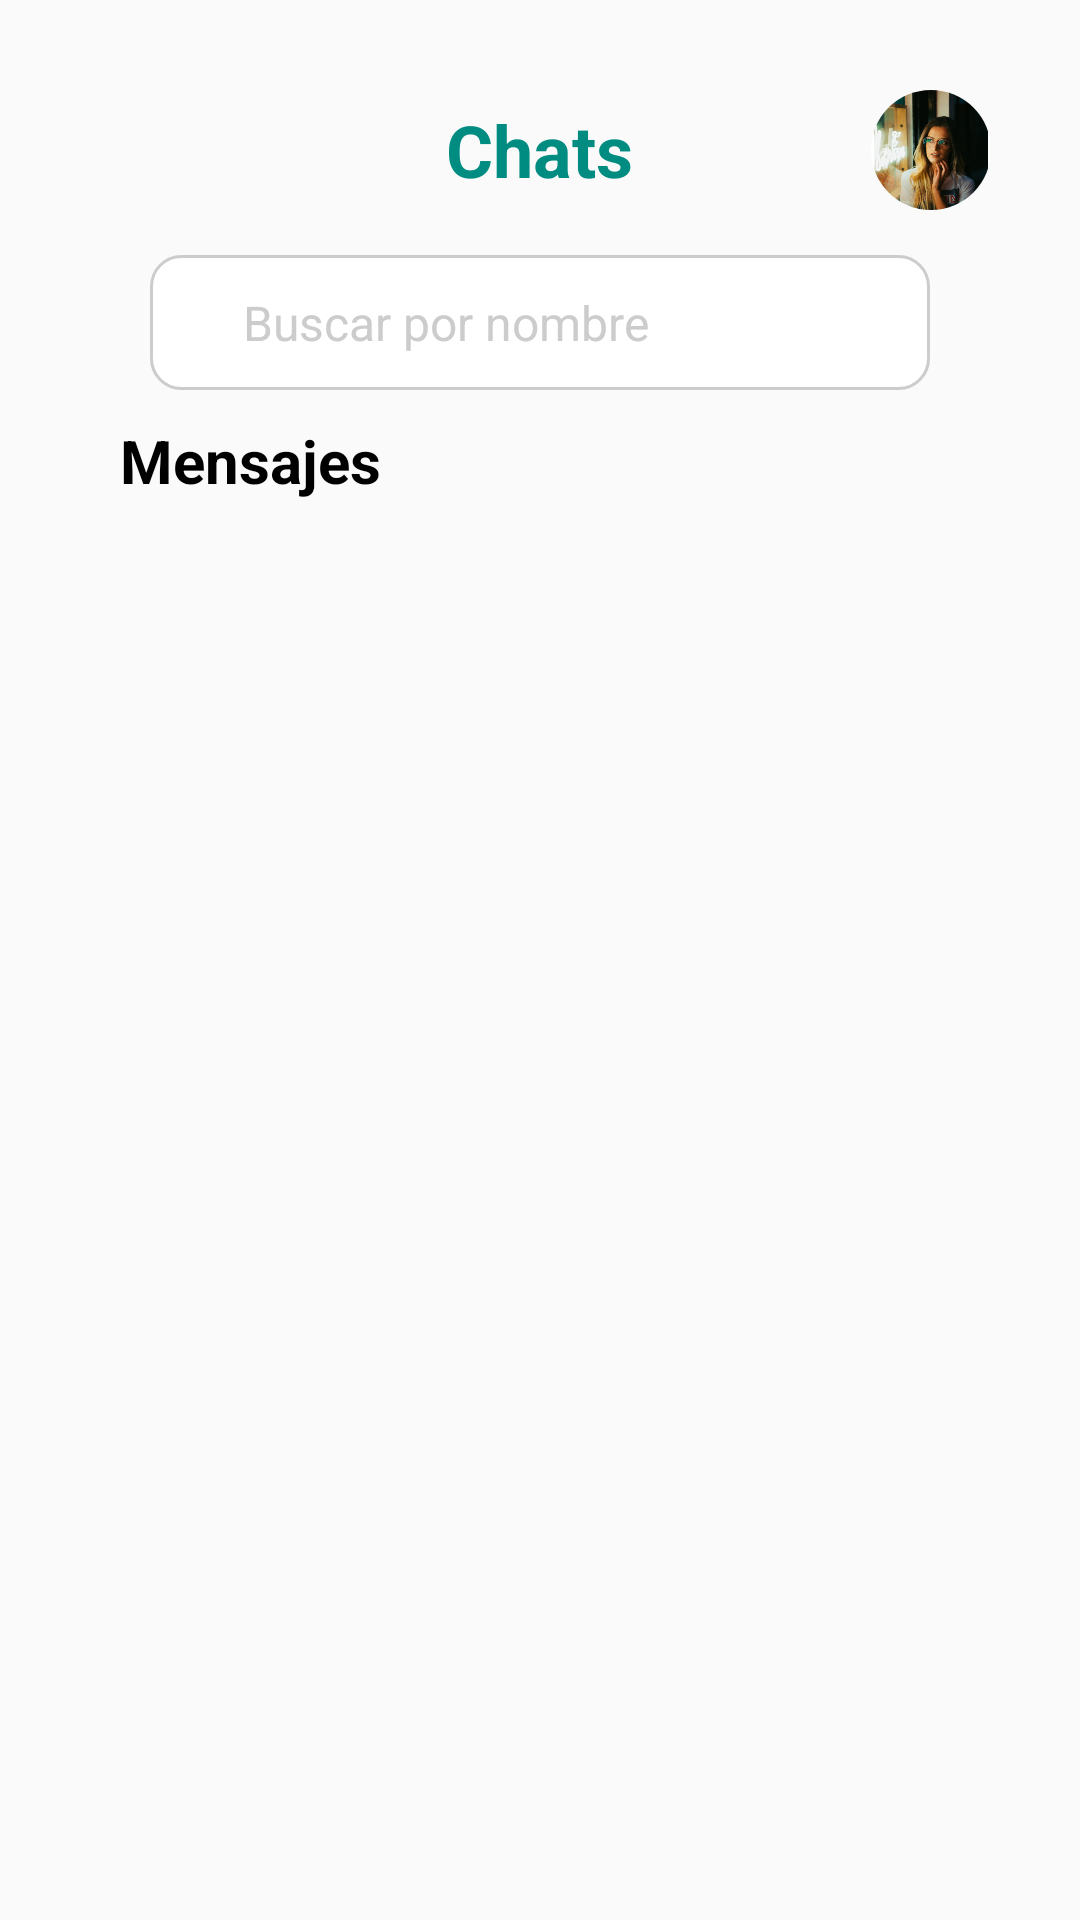

Point at icon controls on the screen. Image size 1080px x 1920px, points as (x,y).
photo main: (931,150)
